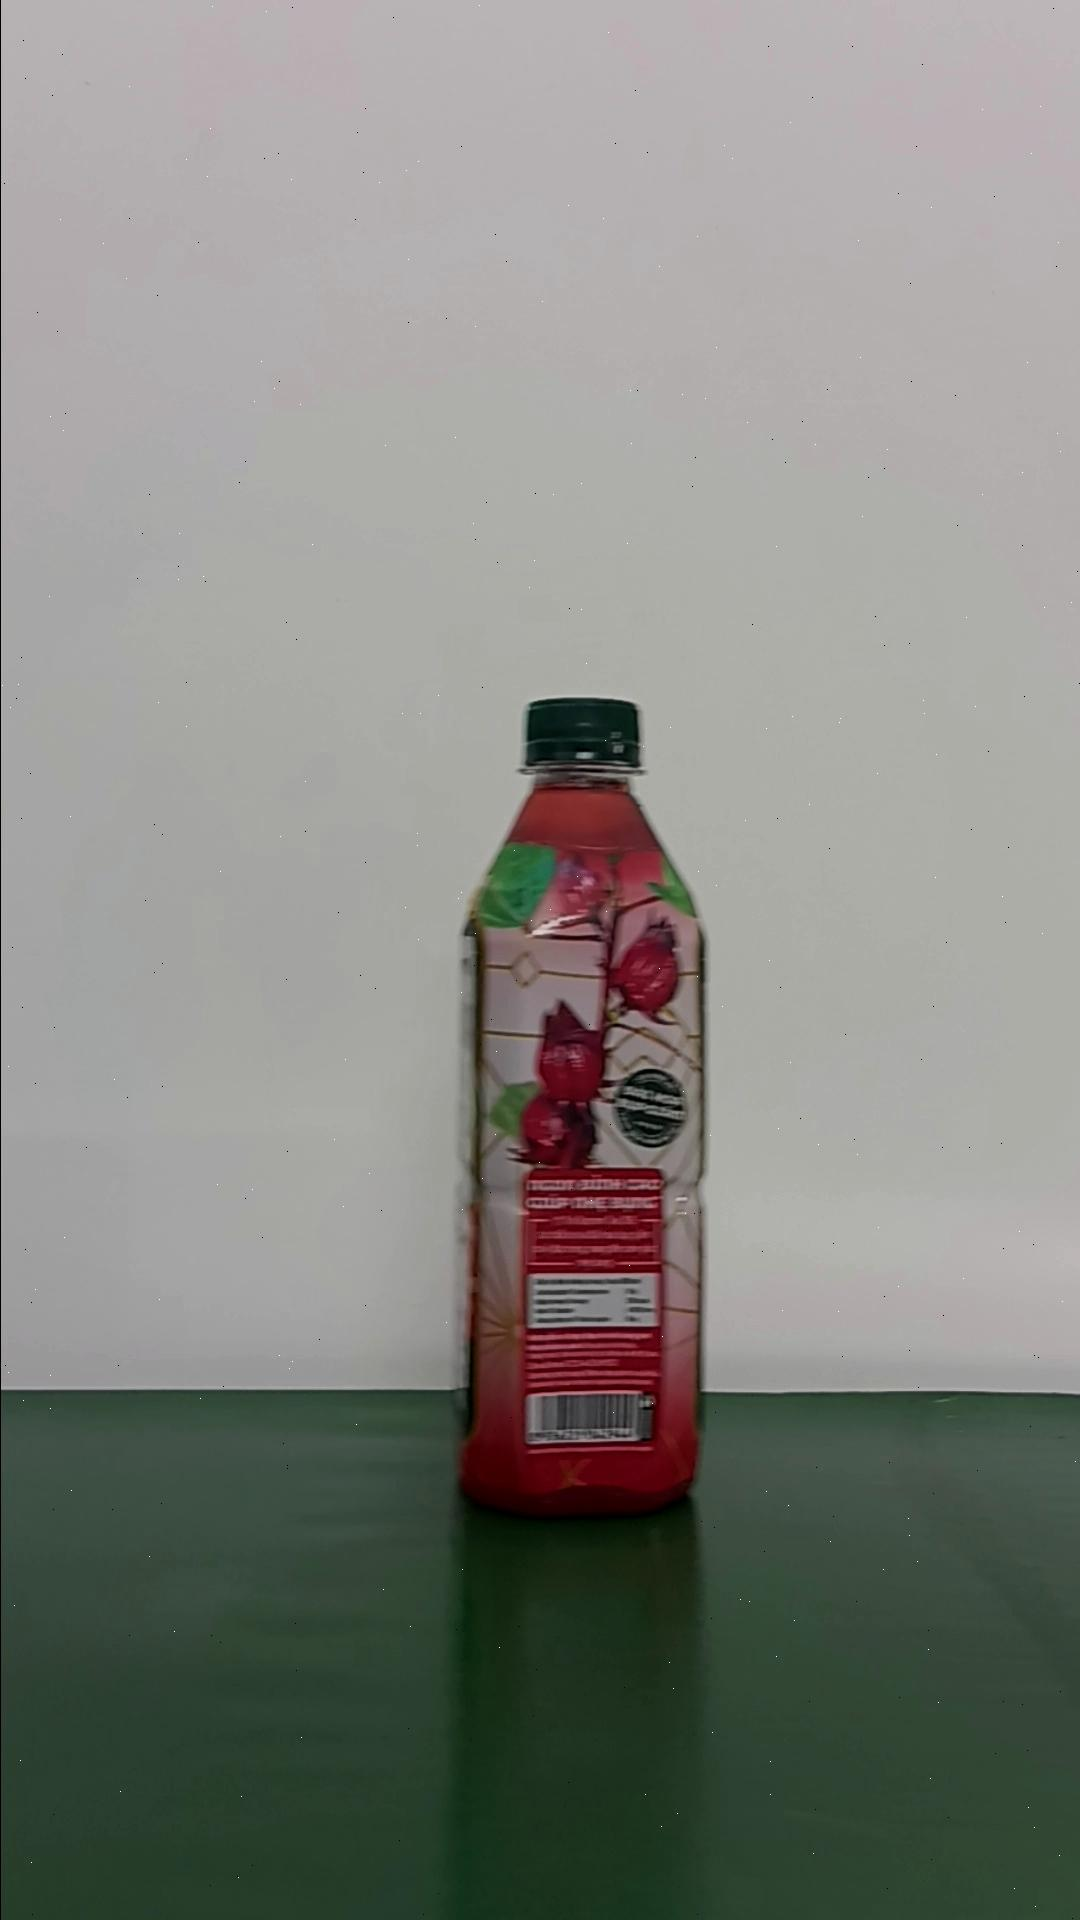khong loi: (454, 694, 708, 1518)
